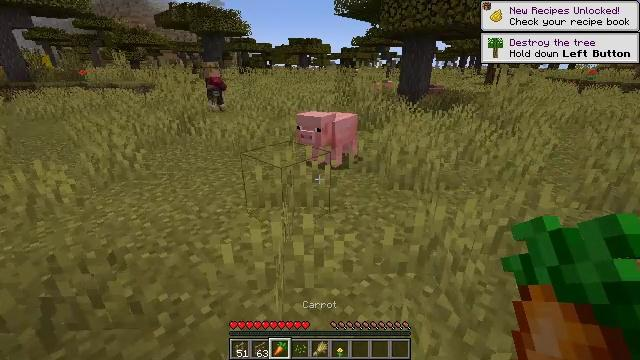pig: (294, 110, 359, 166)
